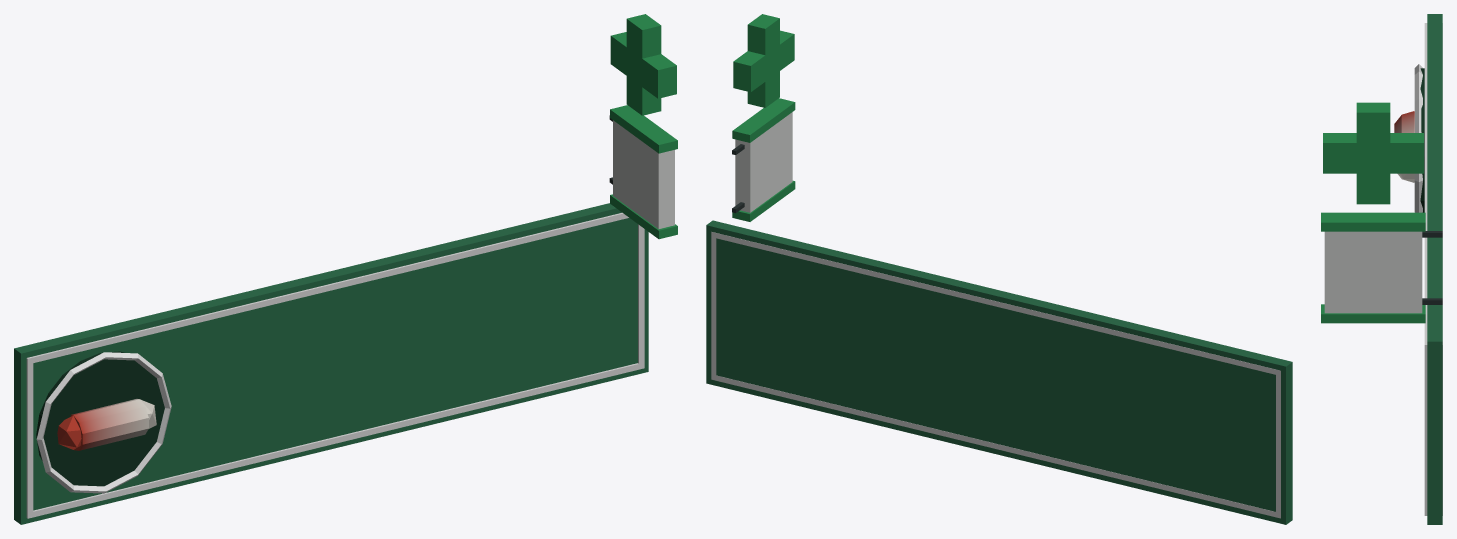
File: bang_quay_thuoc_hanh_phuc_48.glb
3 views of the same model, side by side, from view 1: azimuth 30°, elevation 25°; view 2: azimuth 150°, elevation 25°; view 3: azimuth 270°, elevation 25° (orthographic). The views are drawn at different scales.
Parts seen in each view (by area): view 1: bang_quay_thuoc_hanh_phuc_48; view 2: bang_quay_thuoc_hanh_phuc_48; view 3: bang_quay_thuoc_hanh_phuc_48.
Part boxes in pixels (left/top/right/bottom): bang_quay_thuoc_hanh_phuc_48: left=14, top=14, right=677, bottom=524; bang_quay_thuoc_hanh_phuc_48: left=706, top=14, right=1292, bottom=524; bang_quay_thuoc_hanh_phuc_48: left=1321, top=14, right=1442, bottom=524.
Size of the model in its own units: 4.6 by 2.63 by 0.722.
